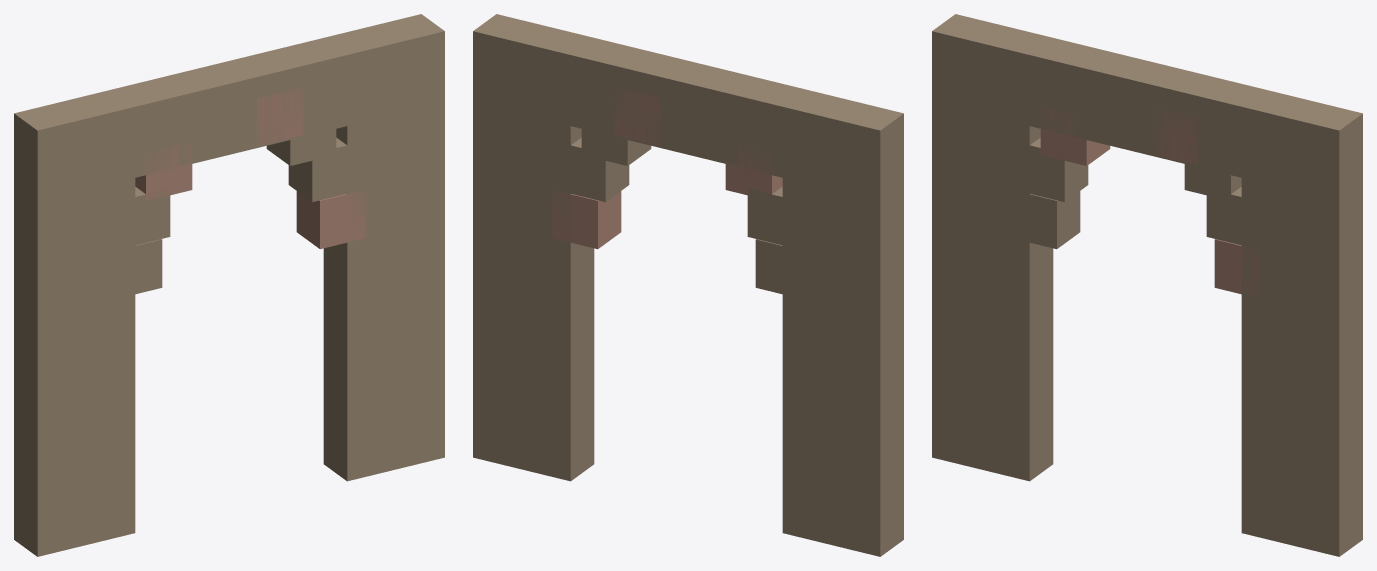
File: iz3_neighborhood_kemer_ahşap.glb
3 renders of one model, left to right at view 1: azimuth 30°, elevation 25°; view 2: azimuth 150°, elevation 25°; view 3: azimuth 330°, elevation 25°, orthographic.
Visible parts, largest first — view 1: pier_l, pier_r, spandrel, voussoir_00, voussoir_01, voussoir_06, voussoir_03, voussoir_02, voussoir_07, voussoir_08, voussoir_04, voussoir_05; view 2: pier_l, pier_r, spandrel, voussoir_00, voussoir_01, voussoir_07, voussoir_02, voussoir_03, voussoir_08, voussoir_04, voussoir_06, voussoir_05; view 3: pier_r, pier_l, spandrel, voussoir_08, voussoir_07, voussoir_01, voussoir_04, voussoir_00, voussoir_06, voussoir_05, voussoir_02, voussoir_03.
Part boxes in pixels (x1,y1,x2,y2): pier_l: (14, 89, 135, 556); pier_r: (323, 14, 444, 481); spandrel: (106, 36, 352, 177); voussoir_00: (296, 190, 366, 249); voussoir_01: (288, 137, 358, 202); voussoir_06: (135, 142, 192, 200); voussoir_03: (257, 87, 303, 145); voussoir_02: (266, 107, 336, 165); voussoir_07: (124, 187, 170, 247); voussoir_08: (116, 239, 162, 297); voussoir_04: (218, 88, 263, 145); voussoir_05: (179, 110, 223, 165); pier_l: (782, 89, 903, 556); pier_r: (473, 14, 594, 481); spandrel: (564, 36, 810, 177); voussoir_00: (551, 190, 621, 249); voussoir_01: (559, 137, 629, 202); voussoir_07: (747, 187, 793, 247); voussoir_02: (581, 107, 651, 165); voussoir_03: (614, 87, 660, 146); voussoir_08: (755, 239, 801, 297); voussoir_04: (653, 87, 699, 145); voussoir_06: (725, 144, 782, 200); voussoir_05: (692, 108, 738, 165); pier_r: (1241, 89, 1362, 556); pier_l: (932, 14, 1053, 481); spandrel: (1023, 36, 1270, 177); voussoir_08: (1010, 190, 1080, 249); voussoir_07: (1018, 137, 1088, 202); voussoir_01: (1206, 187, 1252, 247); voussoir_04: (1112, 87, 1158, 145); voussoir_00: (1214, 239, 1260, 297); voussoir_06: (1040, 107, 1110, 165); voussoir_05: (1073, 87, 1119, 146); voussoir_02: (1184, 143, 1241, 195); voussoir_03: (1151, 108, 1197, 165).
Bounding box in the file's own units: 3 × 3 × 0.3.
